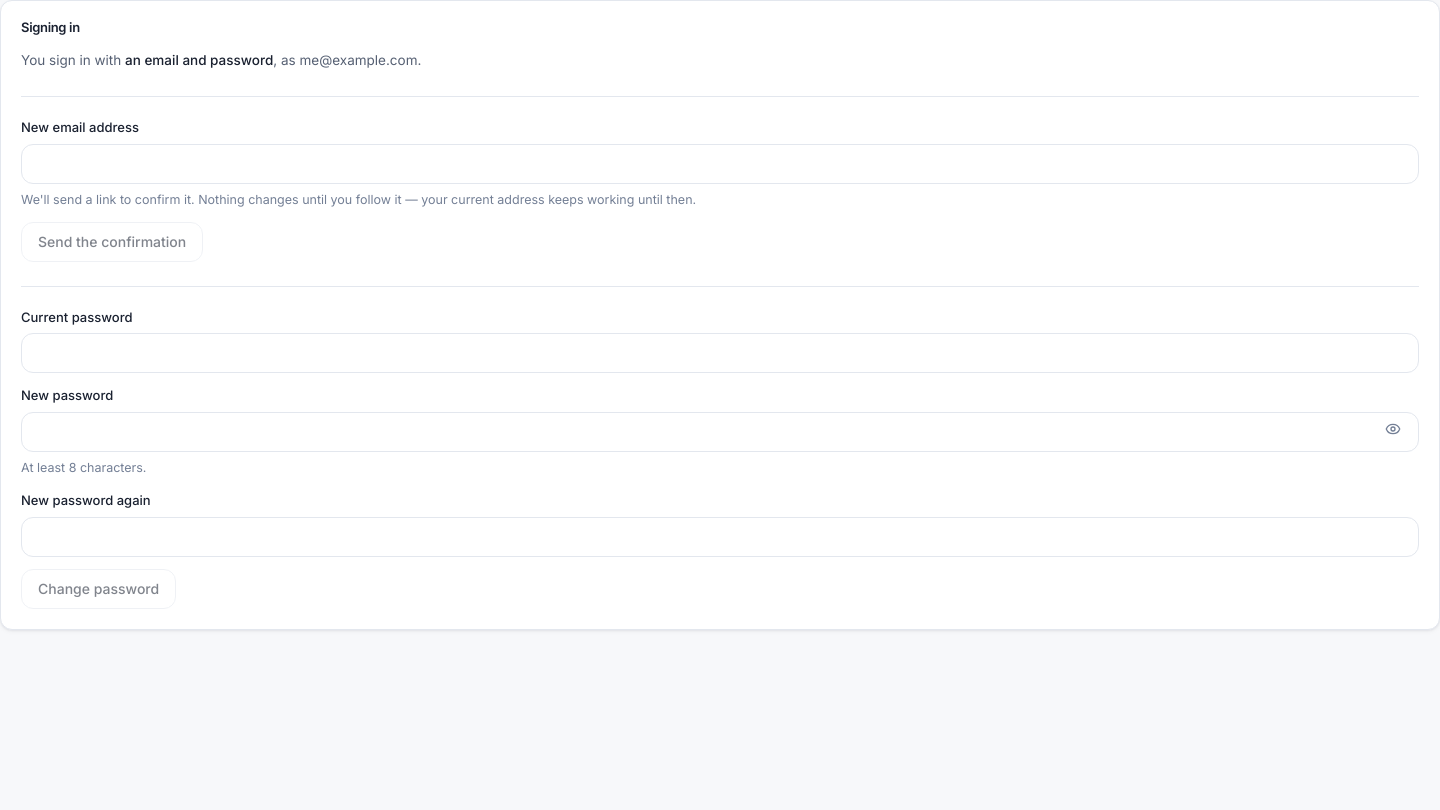
Scenario: changing the password › will not set a new one without the current one being right
The width and height of the screenshot is (1440, 810).
Type "wrong-one" into the password field labelled "Current password" at [720, 353], box top-left (21, 333), bottom-right (1419, 373)
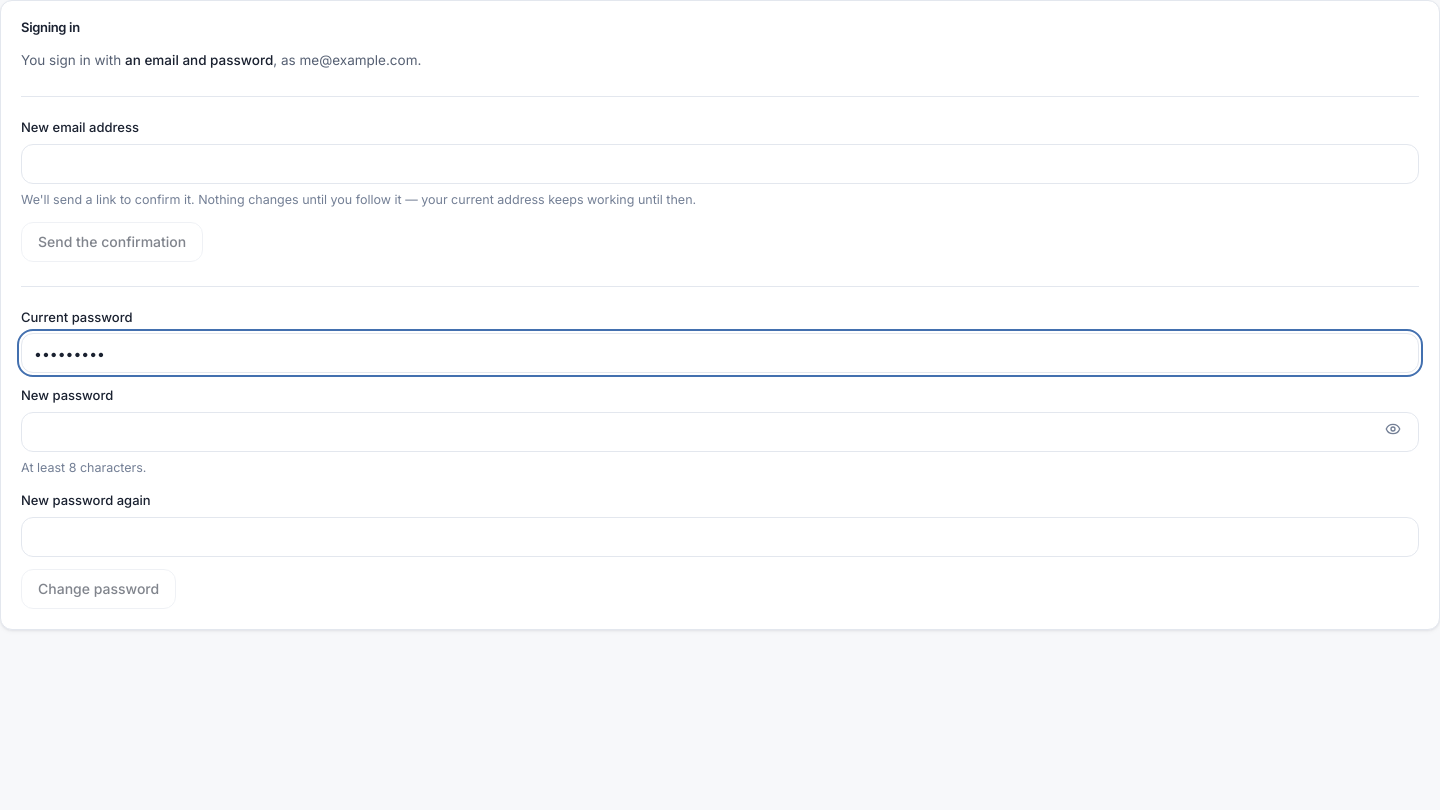
Type "a-good-long-one" into the password field labelled "New password" at [720, 432], box top-left (21, 412), bottom-right (1419, 452)
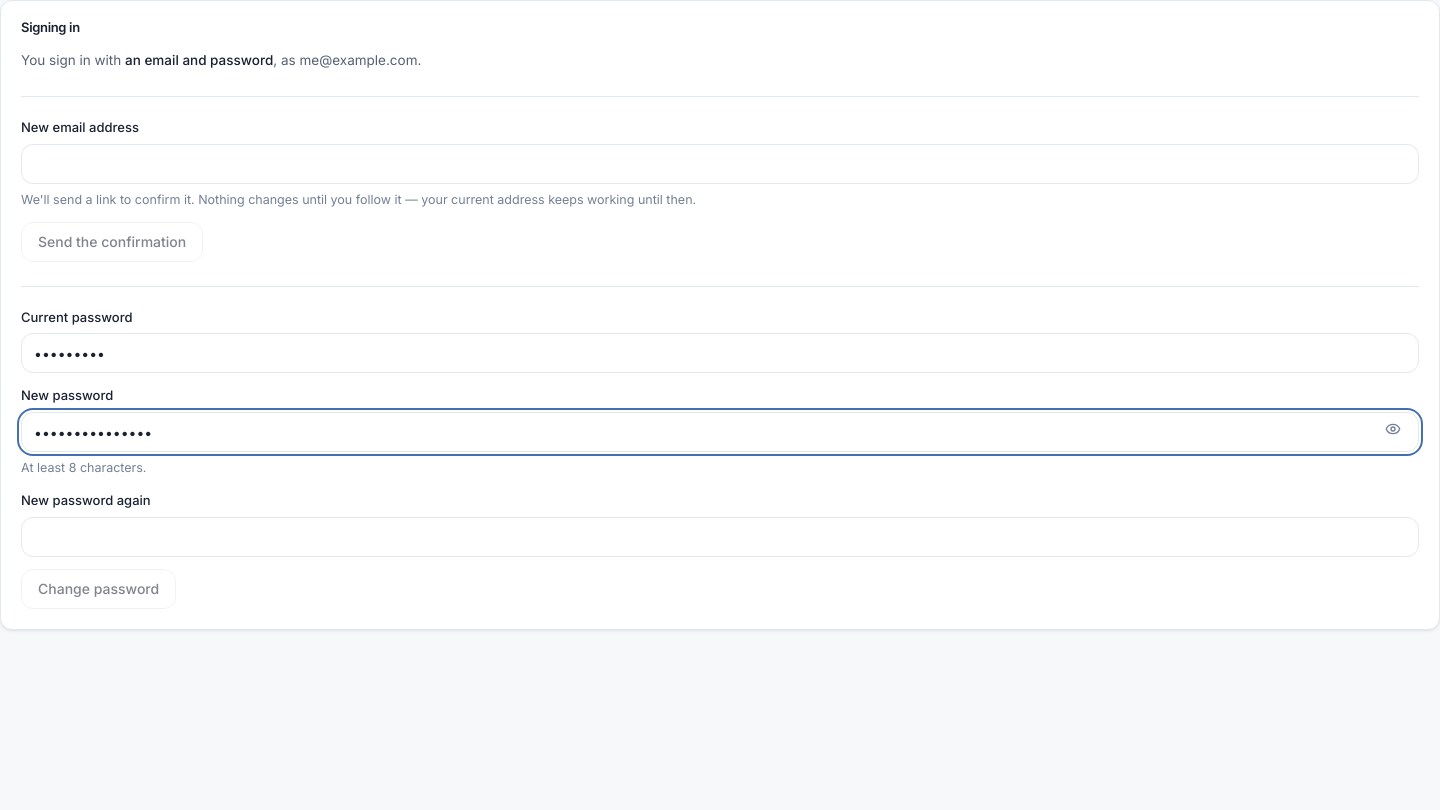
Type "a-good-long-one" into the password field labelled "New password again" at [720, 537], box top-left (21, 517), bottom-right (1419, 557)
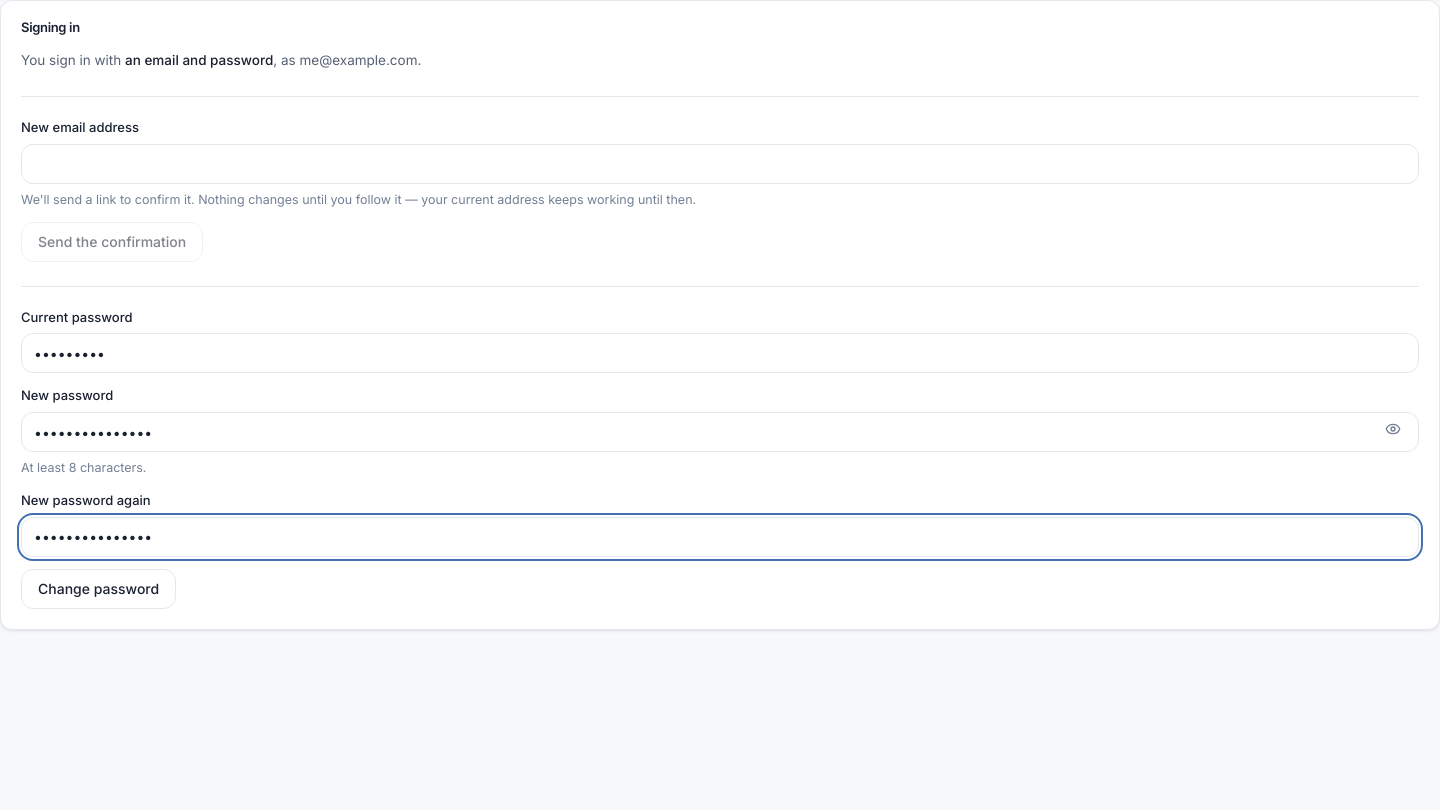
Click the button "Change password" at [99, 589], box top-left (21, 569), bottom-right (176, 609)
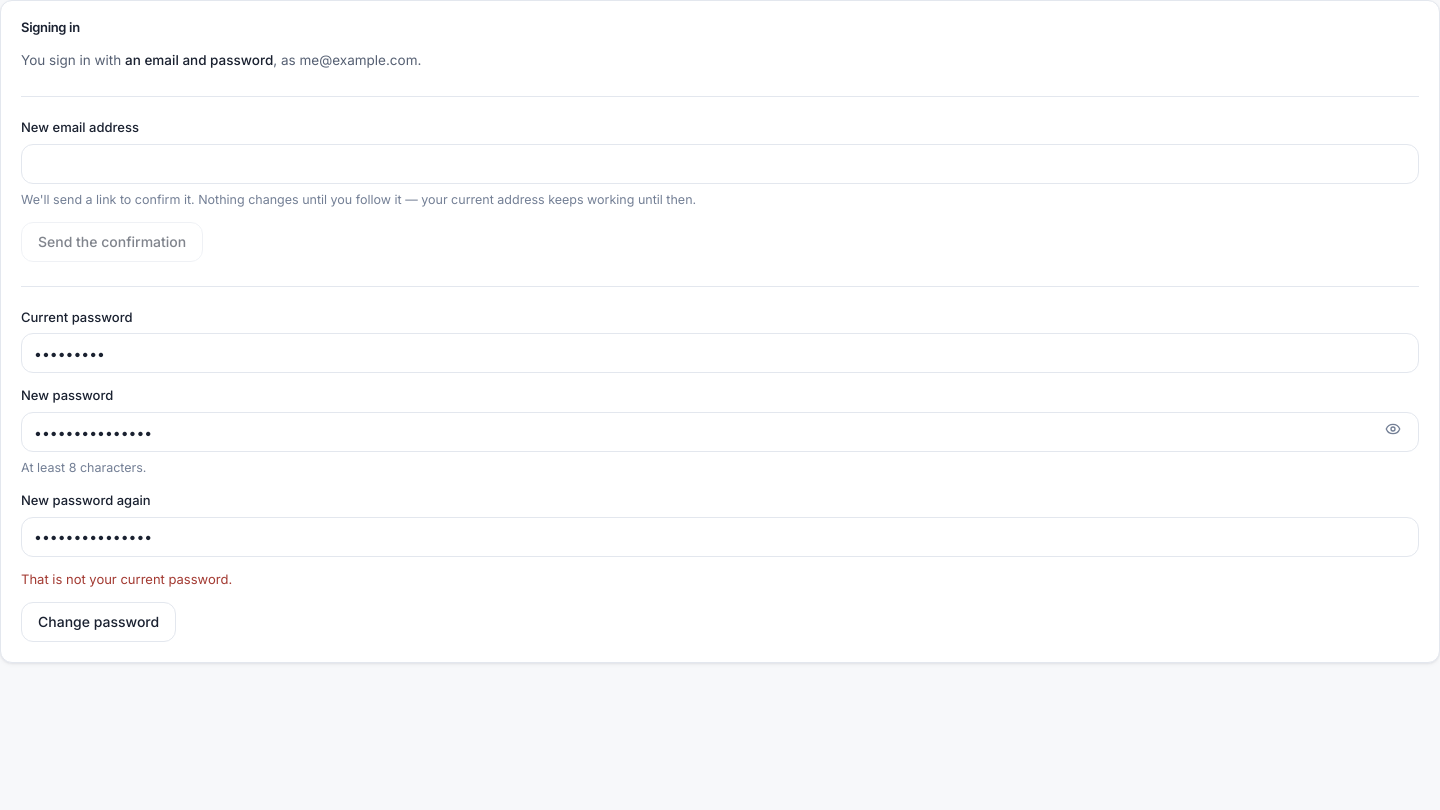
Now the message shows "not your current password", box top-left (21, 571), bottom-right (232, 587)
